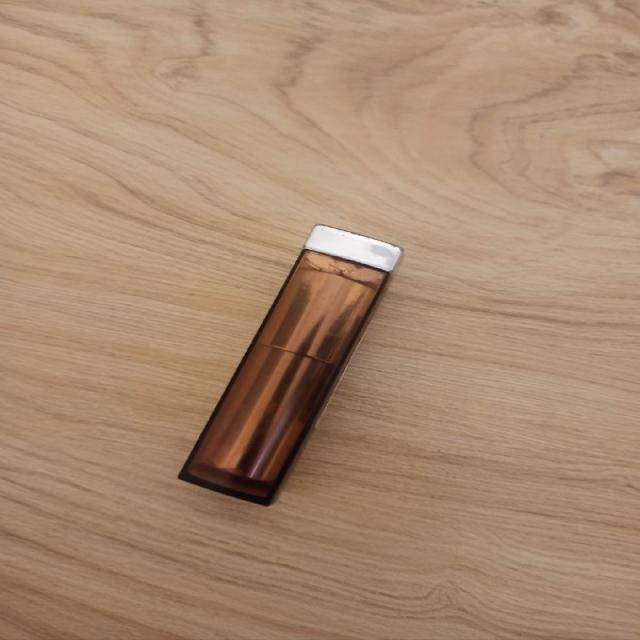lipstick: (176, 223, 402, 506)
